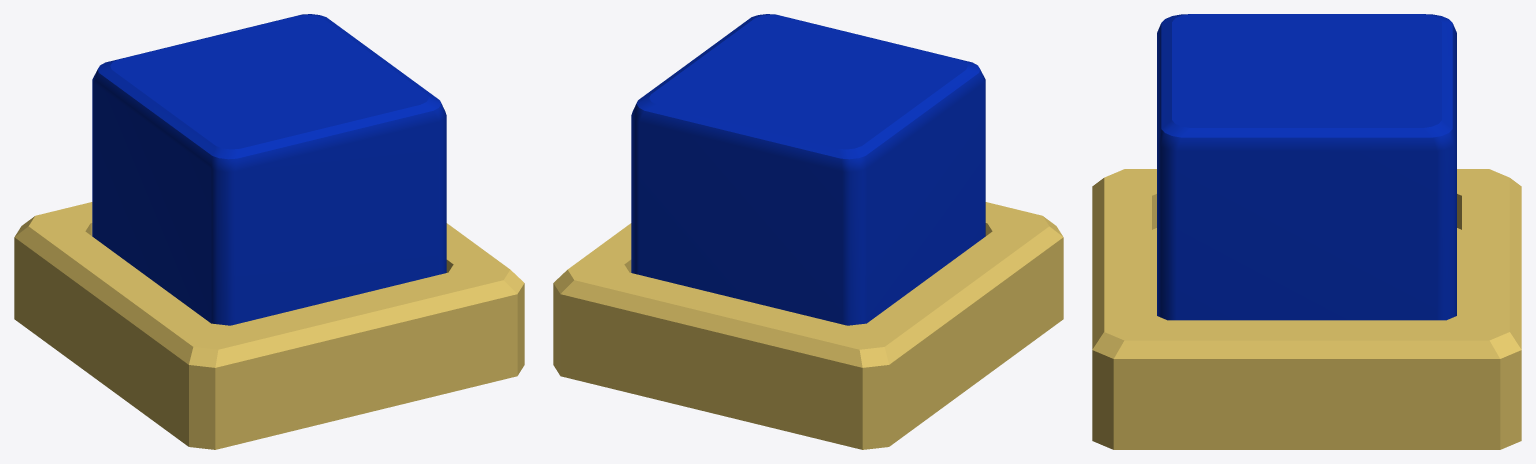
Rendered from a1_switch.fbx.
3 renders of one model, left to right at view 1: azimuth 30°, elevation 25°; view 2: azimuth 150°, elevation 25°; view 3: azimuth 270°, elevation 25°, orthographic. The views are drawn at different scales.
Parts seen in each view (by area): view 1: switch_1; view 2: switch_1; view 3: switch_1.
Boxes of the visible parts, x1,y1,x2,y2 form: switch_1: (14,14,524,449); switch_1: (553,14,1063,449); switch_1: (1092,14,1521,449).
Size of the model in its own units: 1.41 by 1.05 by 1.41.
